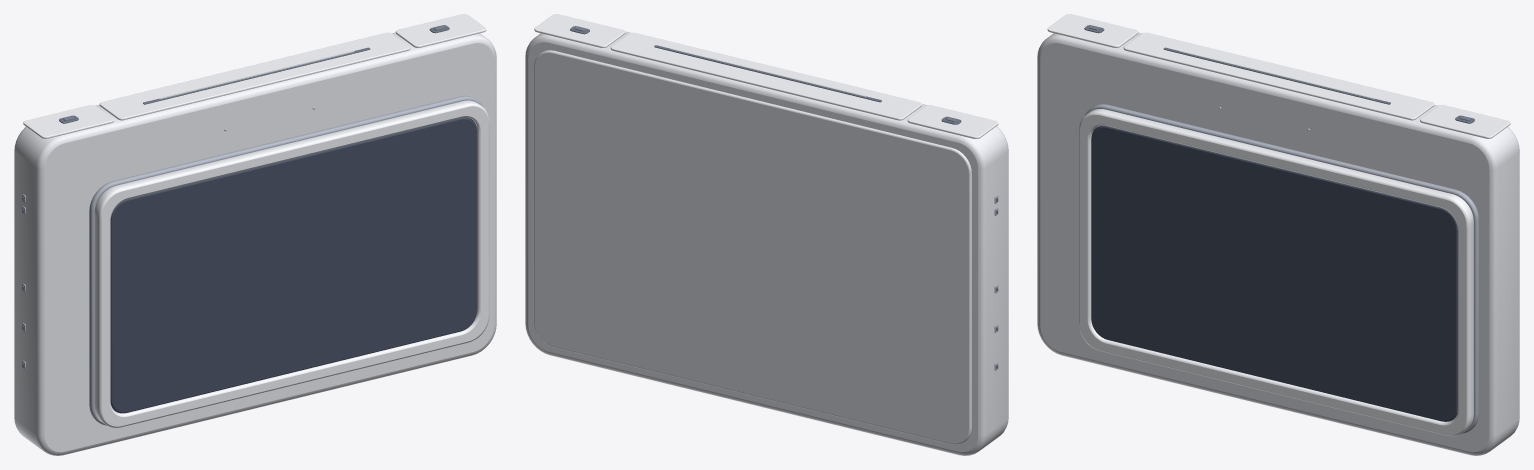
Rendered from 04-nodeworks-back-wall-center.glb.
3 renders of one model, left to right at view 1: azimuth 30°, elevation 25°; view 2: azimuth 150°, elevation 25°; view 3: azimuth 330°, elevation 25°, orthographic.
Parts seen in each view (by area): view 1: matte_dark_center_panel, main_rounded_housing, raised_white_bezel, crown_center_cover, bezel_shadow_seat, crown_left_cover, crown_right_cover, crown_longitudinal_slot; view 2: rear_cover, main_rounded_housing, crown_center_cover, crown_left_cover, crown_right_cover, crown_longitudinal_slot; view 3: matte_dark_center_panel, main_rounded_housing, raised_white_bezel, crown_center_cover, bezel_shadow_seat, crown_left_cover, crown_right_cover, crown_longitudinal_slot.
Part boxes in pixels (box(x1,y1,x2,y2)): matte_dark_center_panel: box(110, 117, 476, 413); main_rounded_housing: box(14, 32, 496, 455); raised_white_bezel: box(94, 100, 489, 427); crown_center_cover: box(99, 32, 410, 120); bezel_shadow_seat: box(89, 95, 482, 425); crown_left_cover: box(23, 105, 113, 138); crown_right_cover: box(395, 14, 486, 47); crown_longitudinal_slot: box(143, 47, 370, 104); rear_cover: box(533, 50, 971, 444); main_rounded_housing: box(525, 31, 1008, 455); crown_center_cover: box(610, 32, 921, 120); crown_left_cover: box(907, 105, 998, 138); crown_right_cover: box(534, 14, 625, 47); crown_longitudinal_slot: box(654, 45, 881, 102); matte_dark_center_panel: box(1091, 125, 1457, 421); main_rounded_housing: box(1037, 32, 1519, 455); raised_white_bezel: box(1079, 109, 1473, 436); crown_center_cover: box(1123, 32, 1434, 120); bezel_shadow_seat: box(1085, 104, 1478, 433); crown_left_cover: box(1047, 14, 1138, 47); crown_right_cover: box(1420, 105, 1510, 138); crown_longitudinal_slot: box(1163, 47, 1390, 104).
Size of the model in its own units: 2.81 by 1.88 by 0.398.
